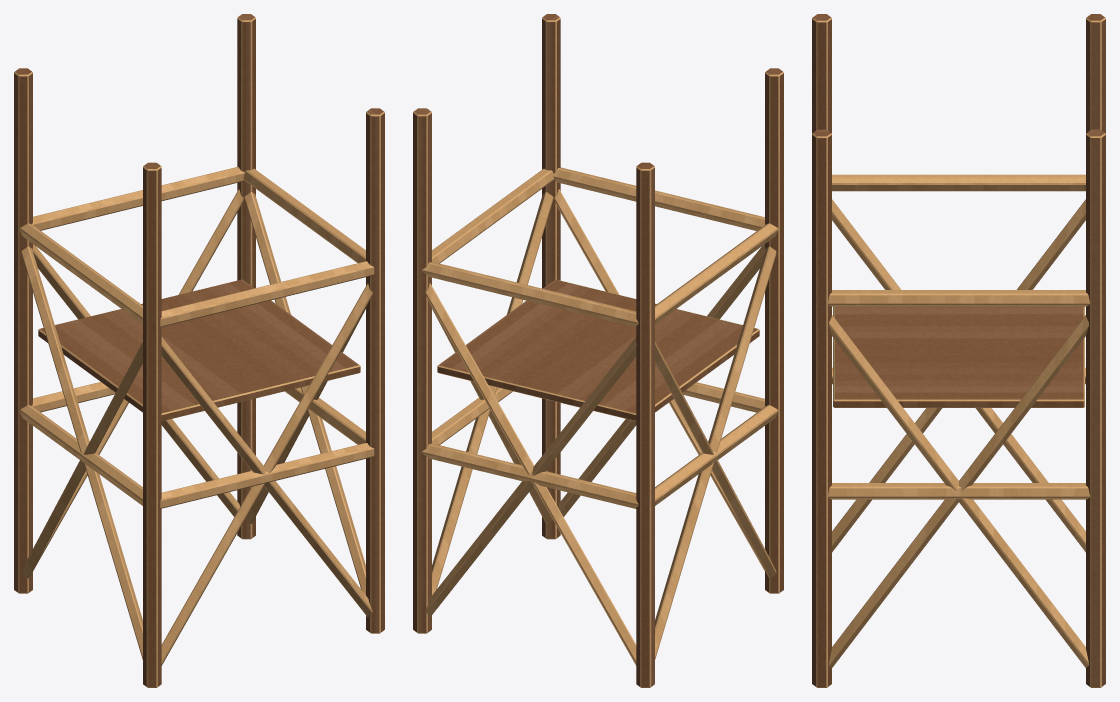
File: sm_scaffold.glb
3 renders of one model, left to right at view 1: azimuth 30°, elevation 25°; view 2: azimuth 150°, elevation 25°; view 3: azimuth 270°, elevation 25°, orthographic. The views are drawn at different scales.
Parts seen in each view (by area): view 1: sm_scaffold; view 2: sm_scaffold; view 3: sm_scaffold.
Boxes of the visible parts, x1=… form: sm_scaffold: x1=14, y1=14, x2=384, y2=687; sm_scaffold: x1=413, y1=14, x2=783, y2=687; sm_scaffold: x1=812, y1=14, x2=1105, y2=687.
Size of the model in its own units: 0.9606 by 2 by 0.966.
Materials: 1 (1 with a texture image).
